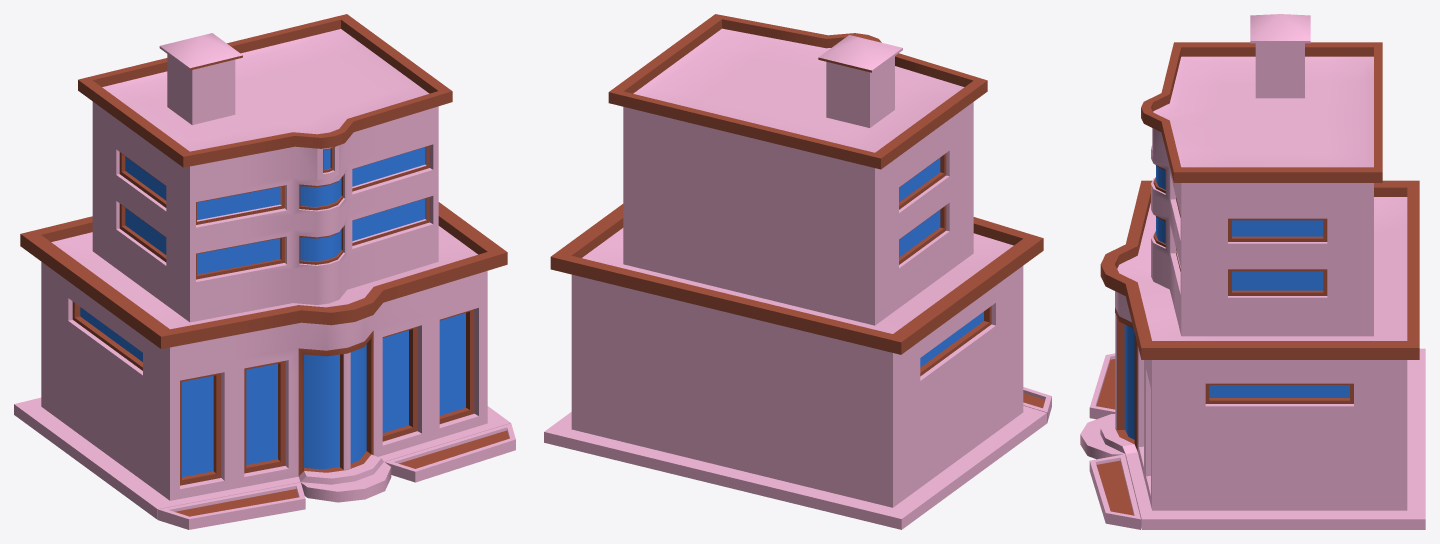
The model's file is HouseFive.fbx.
The picture shows the model from 3 angles, left to right: view 1: azimuth 30°, elevation 25°; view 2: azimuth 150°, elevation 25°; view 3: azimuth 270°, elevation 25°; orthographic projection. The views are drawn at different scales.
Visible parts, largest first — view 1: Cube.006; view 2: Cube.006; view 3: Cube.006.
Boxes of the visible parts, left/top/right/bottom form: Cube.006: left=14, top=14, right=515, bottom=529; Cube.006: left=544, top=14, right=1051, bottom=529; Cube.006: left=1080, top=14, right=1425, bottom=529.
Size of the model in its own units: 155 by 169 by 133.
